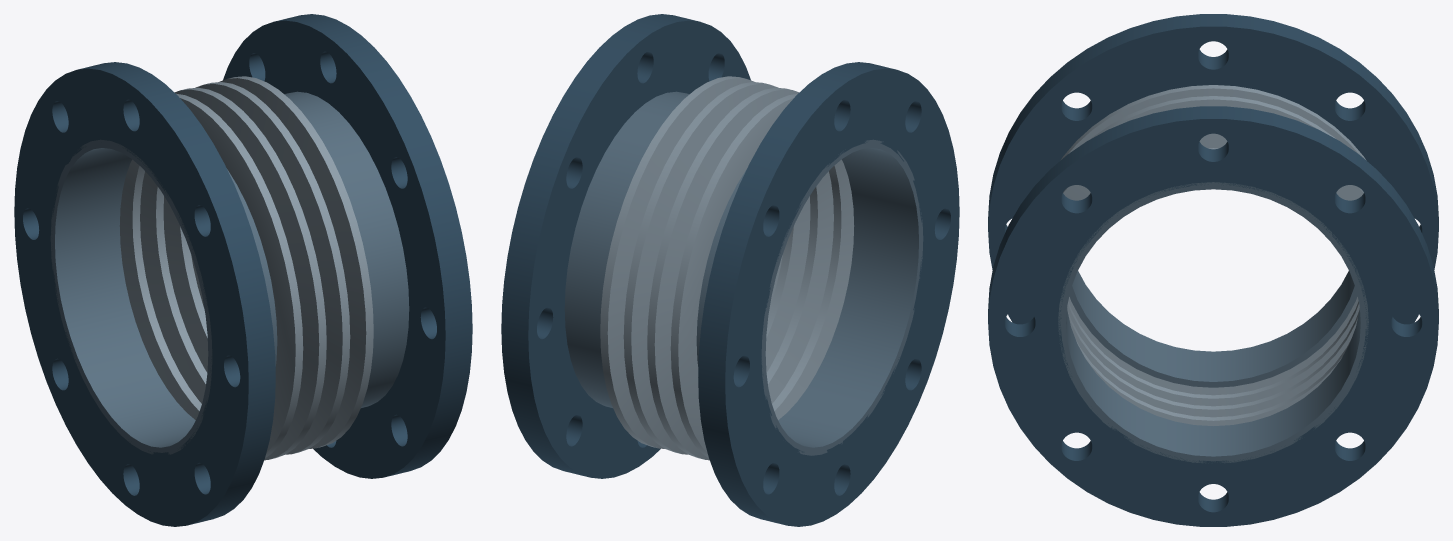
File: flan-dn200-L175-D219-f.glb
3 renders of one model, left to right at view 1: azimuth 30°, elevation 25°; view 2: azimuth 150°, elevation 25°; view 3: azimuth 270°, elevation 25°, orthographic. The views are drawn at different scales.
Parts seen in each view (by area): view 1: homut_flanec_1, prokladka_silfon_1, homut_flanec_2, patrubok_1, patrubok_2; view 2: homut_flanec_1, prokladka_silfon_1, homut_flanec_2, patrubok_1, patrubok_2; view 3: homut_flanec_2, homut_flanec_1, prokladka_silfon_1, patrubok_2, patrubok_1.
Part boxes in pixels (left/top/right/bottom): homut_flanec_1: left=14, top=62, right=275, bottom=526; prokladka_silfon_1: left=119, top=76, right=373, bottom=460; homut_flanec_2: left=223, top=14, right=472, bottom=478; patrubok_1: left=50, top=139, right=277, bottom=454; patrubok_2: left=284, top=91, right=409, bottom=407; homut_flanec_1: left=698, top=62, right=959, bottom=526; prokladka_silfon_1: left=600, top=76, right=854, bottom=460; homut_flanec_2: left=501, top=14, right=750, bottom=478; patrubok_1: left=696, top=139, right=923, bottom=455; patrubok_2: left=564, top=91, right=689, bottom=407; homut_flanec_2: left=988, top=106, right=1438, bottom=526; homut_flanec_1: left=988, top=14, right=1438, bottom=324; prokladka_silfon_1: left=1060, top=85, right=1366, bottom=425; patrubok_2: left=1058, top=182, right=1368, bottom=463; patrubok_1: left=1069, top=271, right=1357, bottom=387.
Size of the model in its own units: 175 by 317 by 318.
